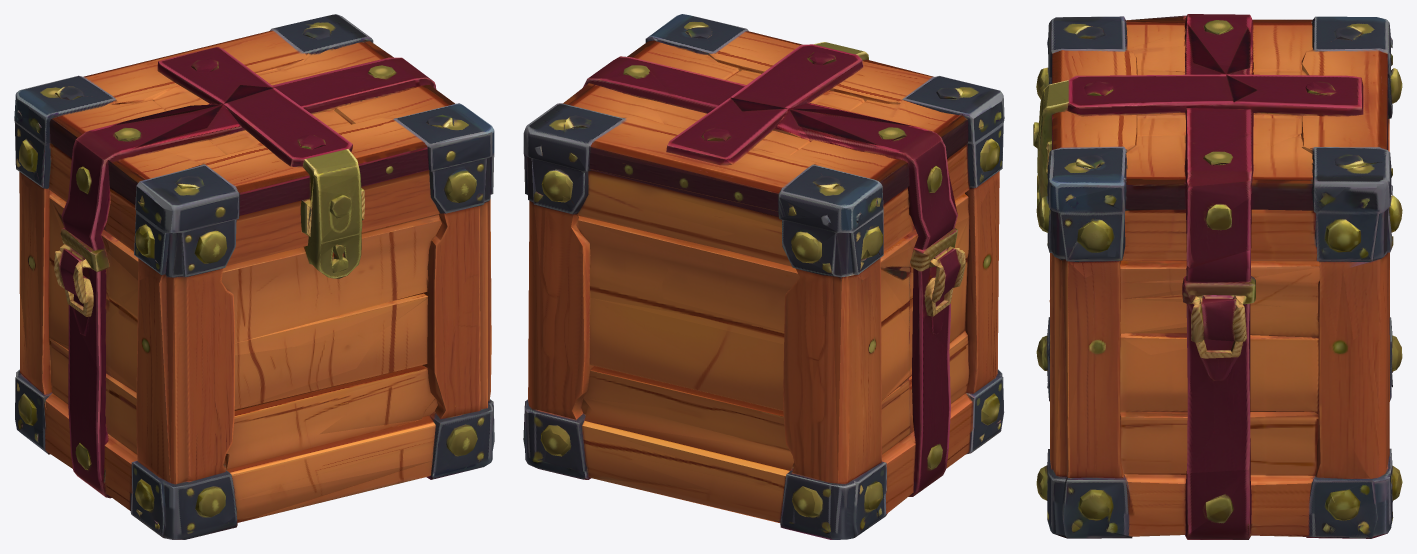
Rendered from crate_small.glb.
3 views of the same model, side by side, from view 1: azimuth 30°, elevation 25°; view 2: azimuth 150°, elevation 25°; view 3: azimuth 270°, elevation 25° (orthographic). The views are drawn at different scales.
Size of the model in its own units: 1.9 by 1.68 by 1.51.
Materials: 1 (1 with a texture image).
